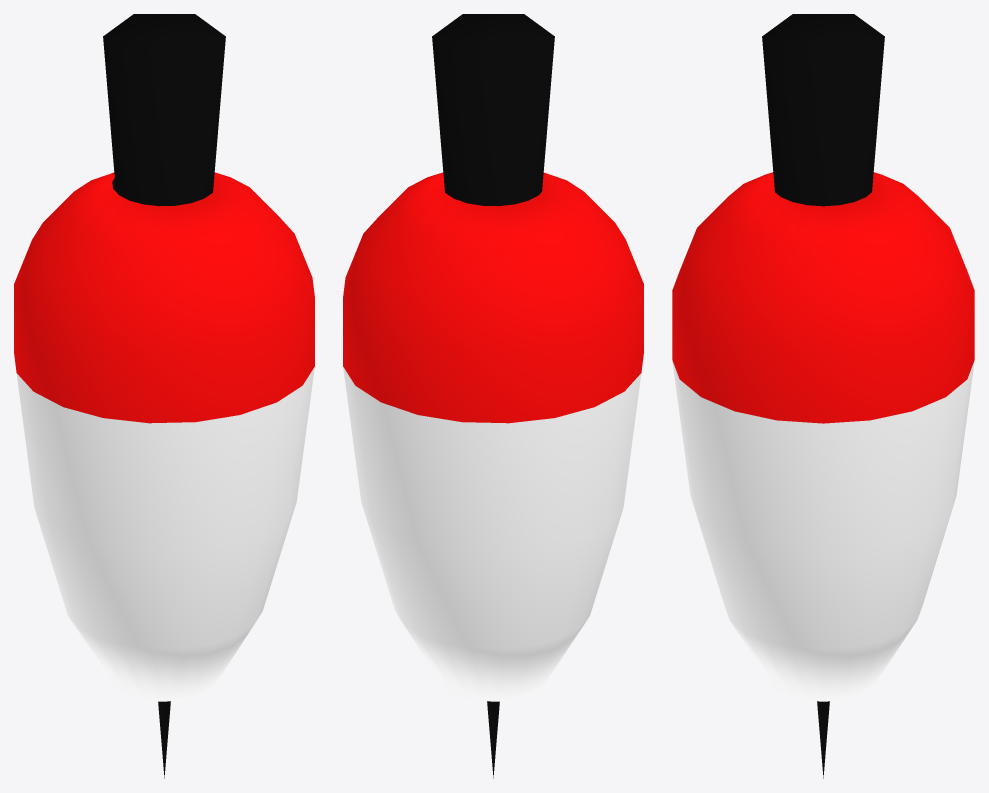
Rendered from test_float.glb.
3 views of the same model, side by side, from view 1: azimuth 30°, elevation 25°; view 2: azimuth 150°, elevation 25°; view 3: azimuth 270°, elevation 25° (orthographic).
Parts seen in each view (by area): view 1: koho; view 2: koho; view 3: koho.
Part boxes in pixels (bbox=[...]): koho: bbox=[14, 14, 314, 778]; koho: bbox=[343, 14, 643, 778]; koho: bbox=[672, 14, 974, 778].
Bounding box in the file's own units: 0.0591 × 0.16 × 0.0591.
1 material, 1 textured.
